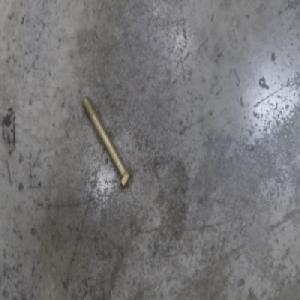Bolt: (81, 93, 133, 191)
